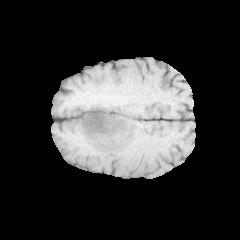glioma: (67, 103, 139, 155)
